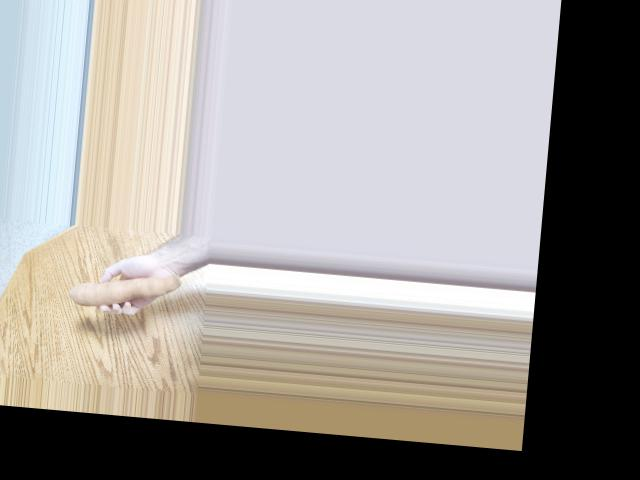sweet_potato: (62, 262, 175, 319)
